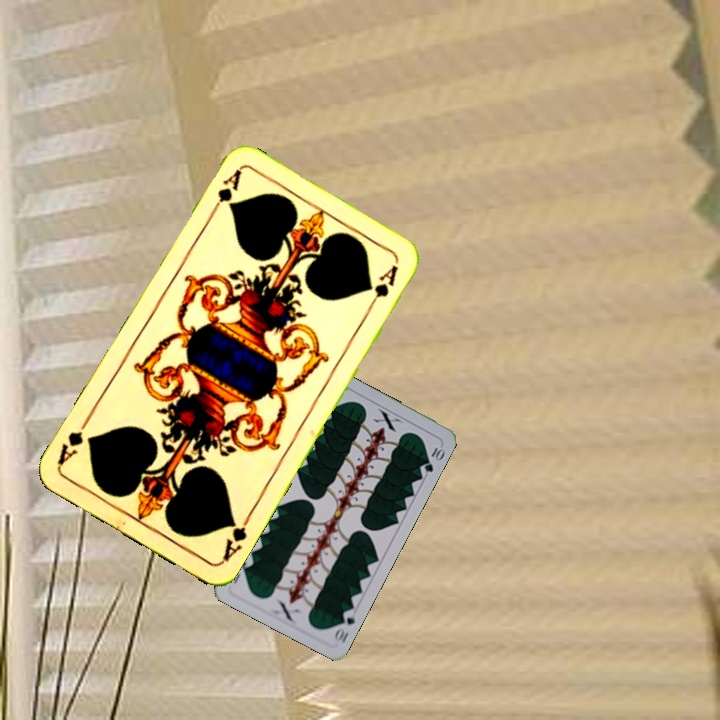G10: (330, 605, 358, 646)
GA: (205, 165, 244, 219), (218, 510, 254, 564)
